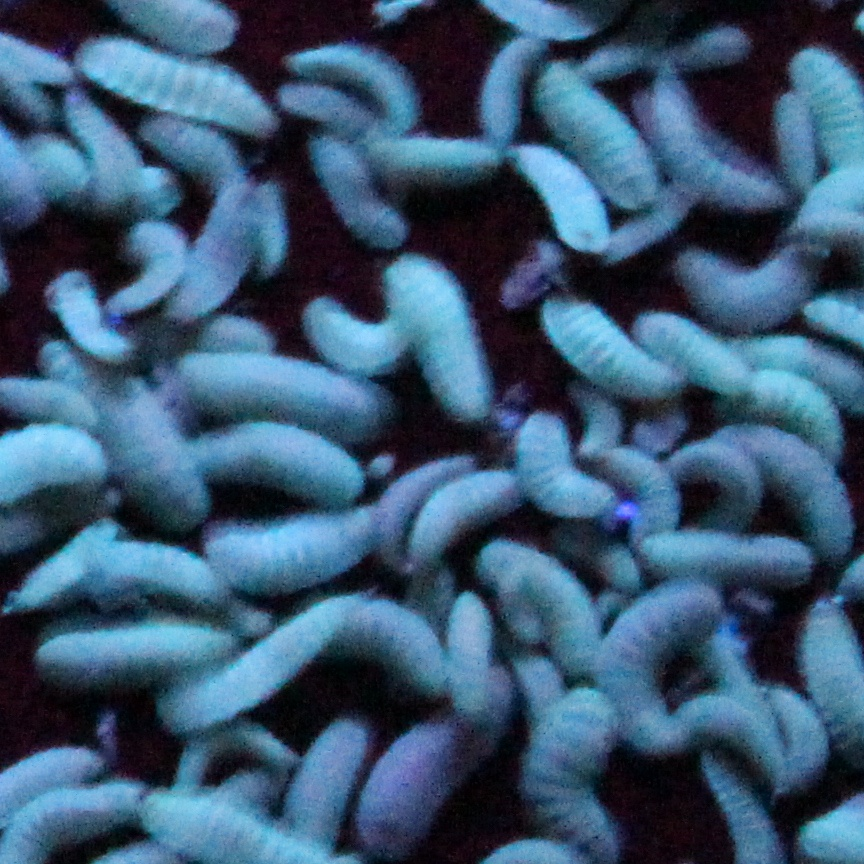larve: (176, 621, 319, 728), (366, 721, 473, 849), (393, 278, 501, 400), (27, 603, 223, 666), (612, 596, 694, 742), (198, 432, 362, 503), (755, 424, 855, 539), (19, 270, 134, 366), (505, 410, 616, 507), (553, 304, 664, 400), (660, 240, 808, 312), (293, 136, 385, 250), (216, 511, 379, 574), (519, 129, 605, 244), (665, 85, 761, 181), (301, 286, 389, 374), (89, 96, 148, 224), (594, 449, 673, 539), (816, 22, 864, 163), (74, 58, 262, 94), (289, 38, 429, 85), (680, 446, 762, 524), (755, 382, 859, 442), (434, 467, 498, 564), (395, 125, 483, 194), (670, 321, 746, 396), (525, 65, 610, 127), (451, 585, 491, 703), (26, 131, 84, 212), (281, 85, 375, 130), (764, 89, 808, 185), (482, 39, 522, 141), (260, 174, 292, 278), (680, 27, 759, 67), (154, 125, 242, 160)
